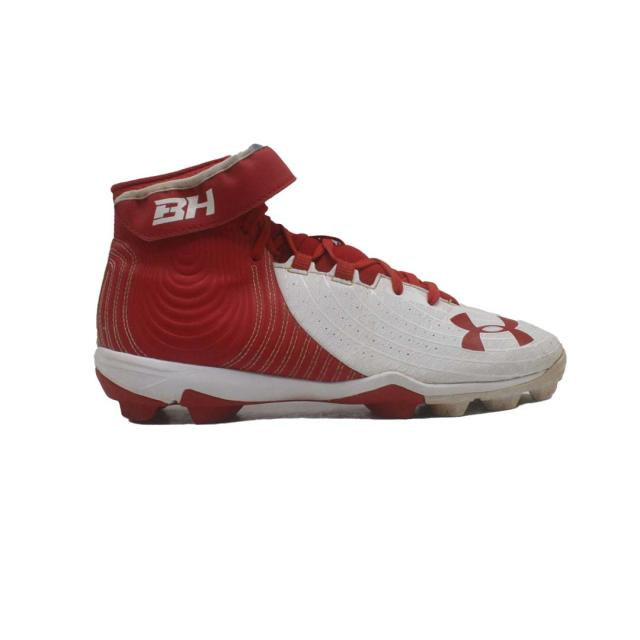heel: (95, 184, 168, 363)
midsole: (94, 344, 564, 420)
uppersole: (162, 148, 562, 384)
